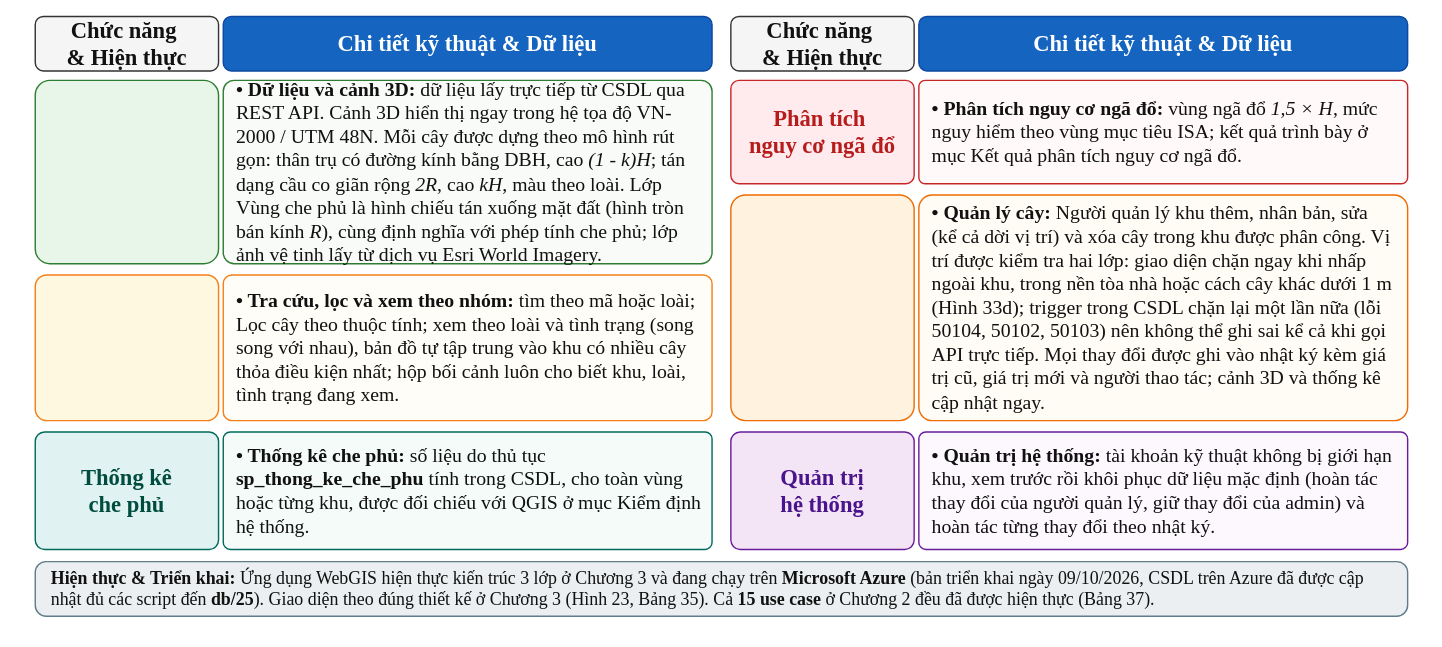
This 1442x647 diagram has some shape labels left out. Here are the shapes that lost their labels. From the top down, the centre of each, then its label:
At pixel 126 171: "Dữ liệu và cảnh 3D".
At pixel 822 307: "Quản lý cây (Kiểm tra 2 lớp)".
At pixel 126 347: "Tra cứu, lọc và xem theo nhóm".
